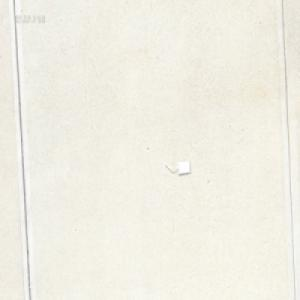LuggageTag: (164, 158, 191, 175)
